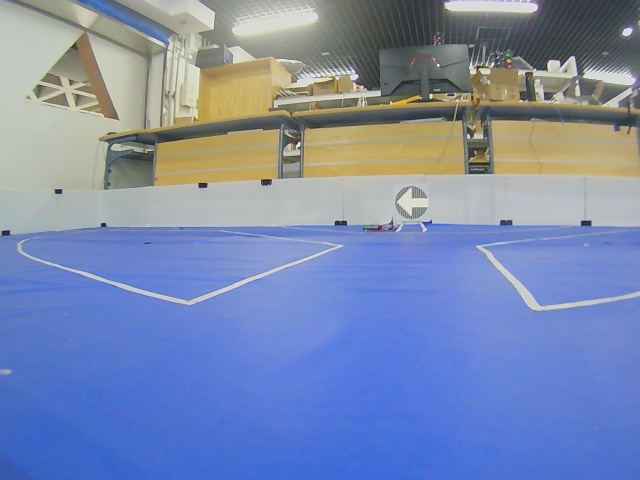left_yellow: (396, 187, 429, 219)
